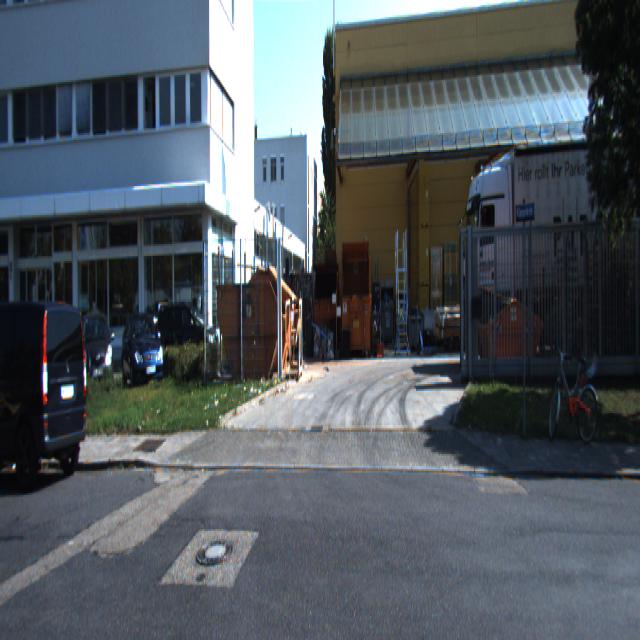Car: (0, 293, 90, 494), (120, 313, 164, 404), (78, 313, 116, 412)
